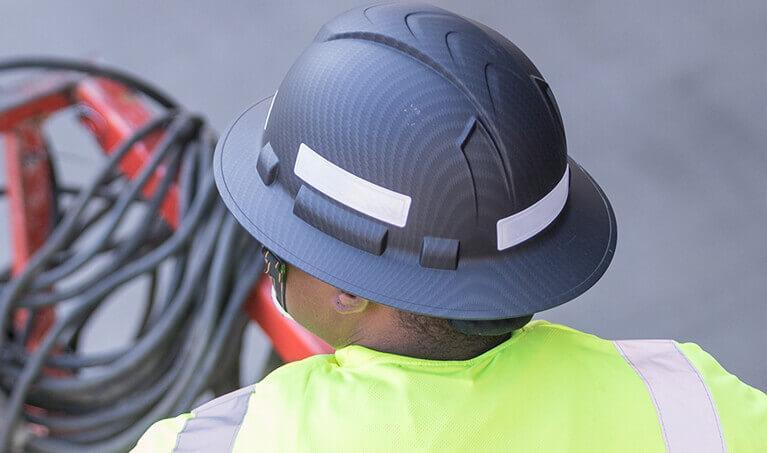hardhat: (214, 1, 645, 324)
